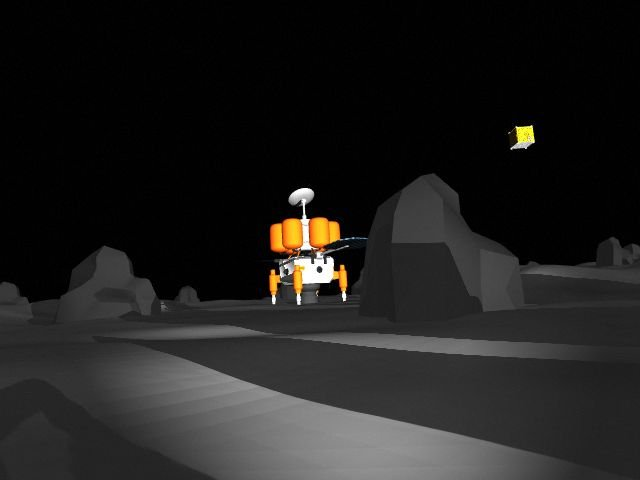homebase: (244, 187, 371, 307)
